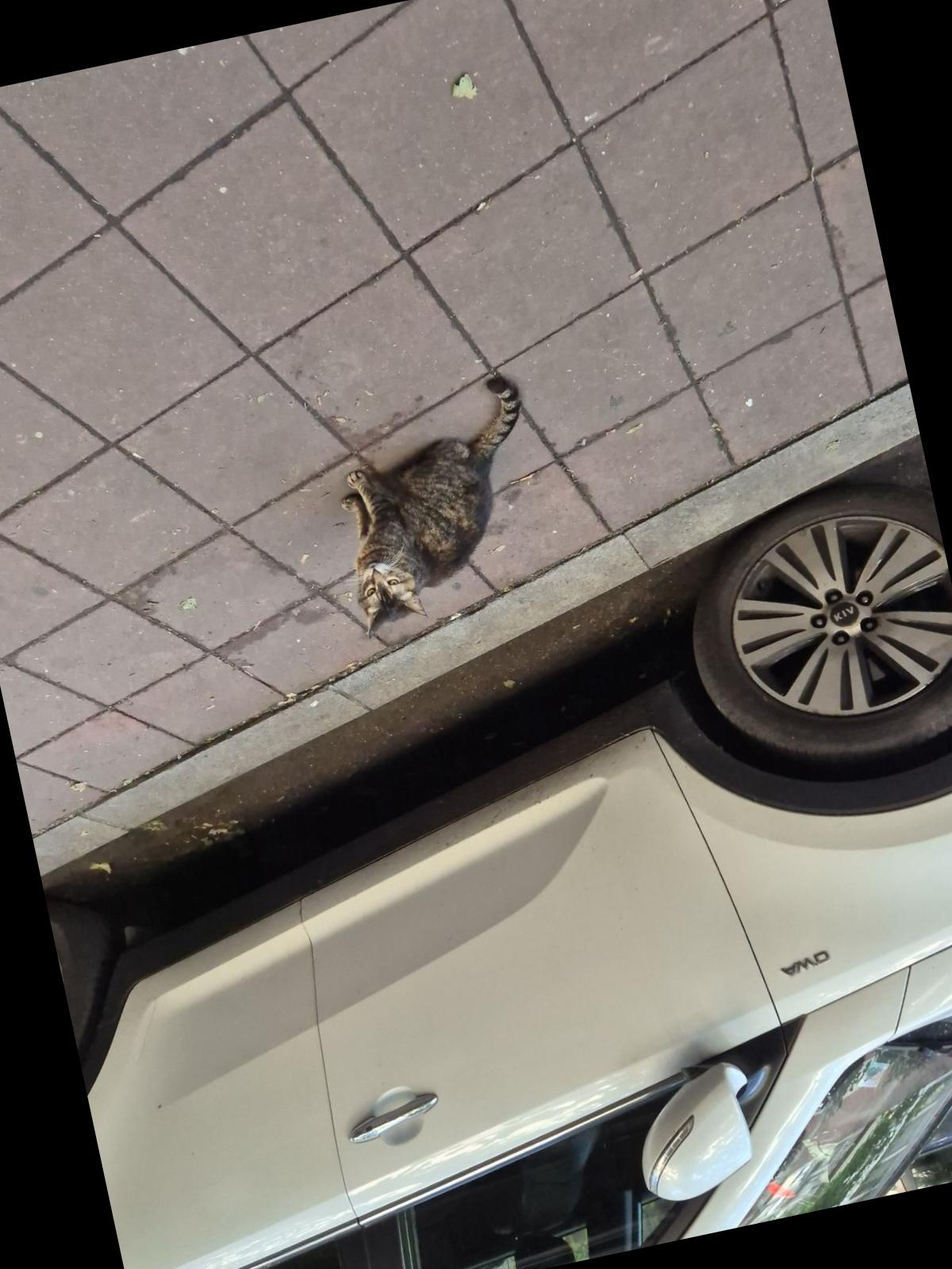macka: (319, 374, 563, 643)
